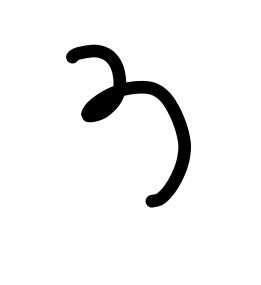a: (55, 36, 141, 134)
